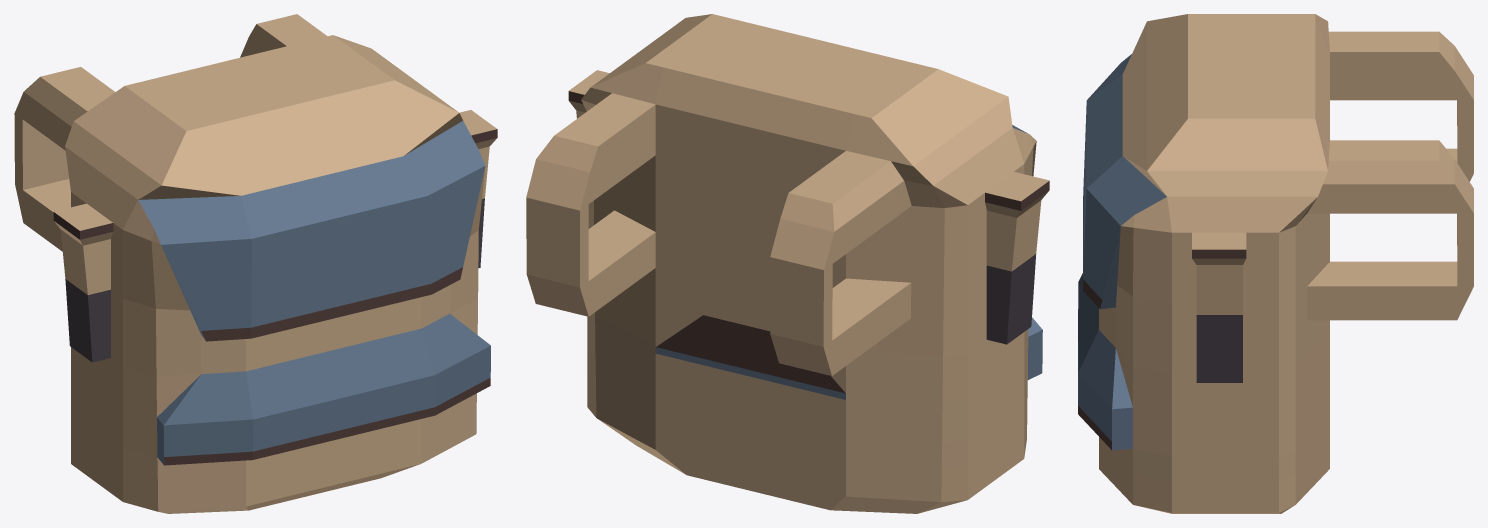
File: backpack.fbx
The picture shows the model from 3 angles, left to right: view 1: azimuth 30°, elevation 25°; view 2: azimuth 150°, elevation 25°; view 3: azimuth 270°, elevation 25°; orthographic projection. The views are drawn at different scales.
Parts seen in each view (by area): view 1: backpack.001; view 2: backpack.001; view 3: backpack.001.
Boxes of the visible parts, box(x1,y1,x2,y2) form: backpack.001: box(14, 14, 497, 513); backpack.001: box(526, 14, 1049, 513); backpack.001: box(1078, 14, 1473, 513).
Bounding box in the file's own units: 83.03 × 70.49 × 66.16.
Materials: 1 (1 with a texture image).
